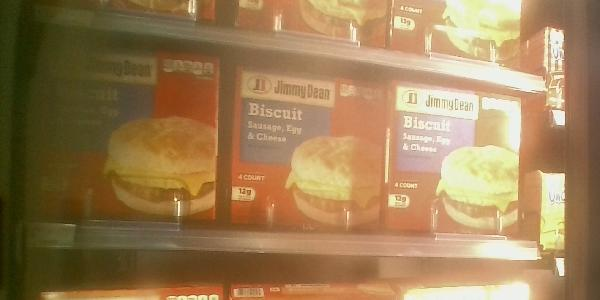icecream: (20, 23, 222, 229), (230, 63, 384, 231), (391, 77, 523, 238)
